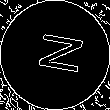N_W: (27, 31, 83, 79)
